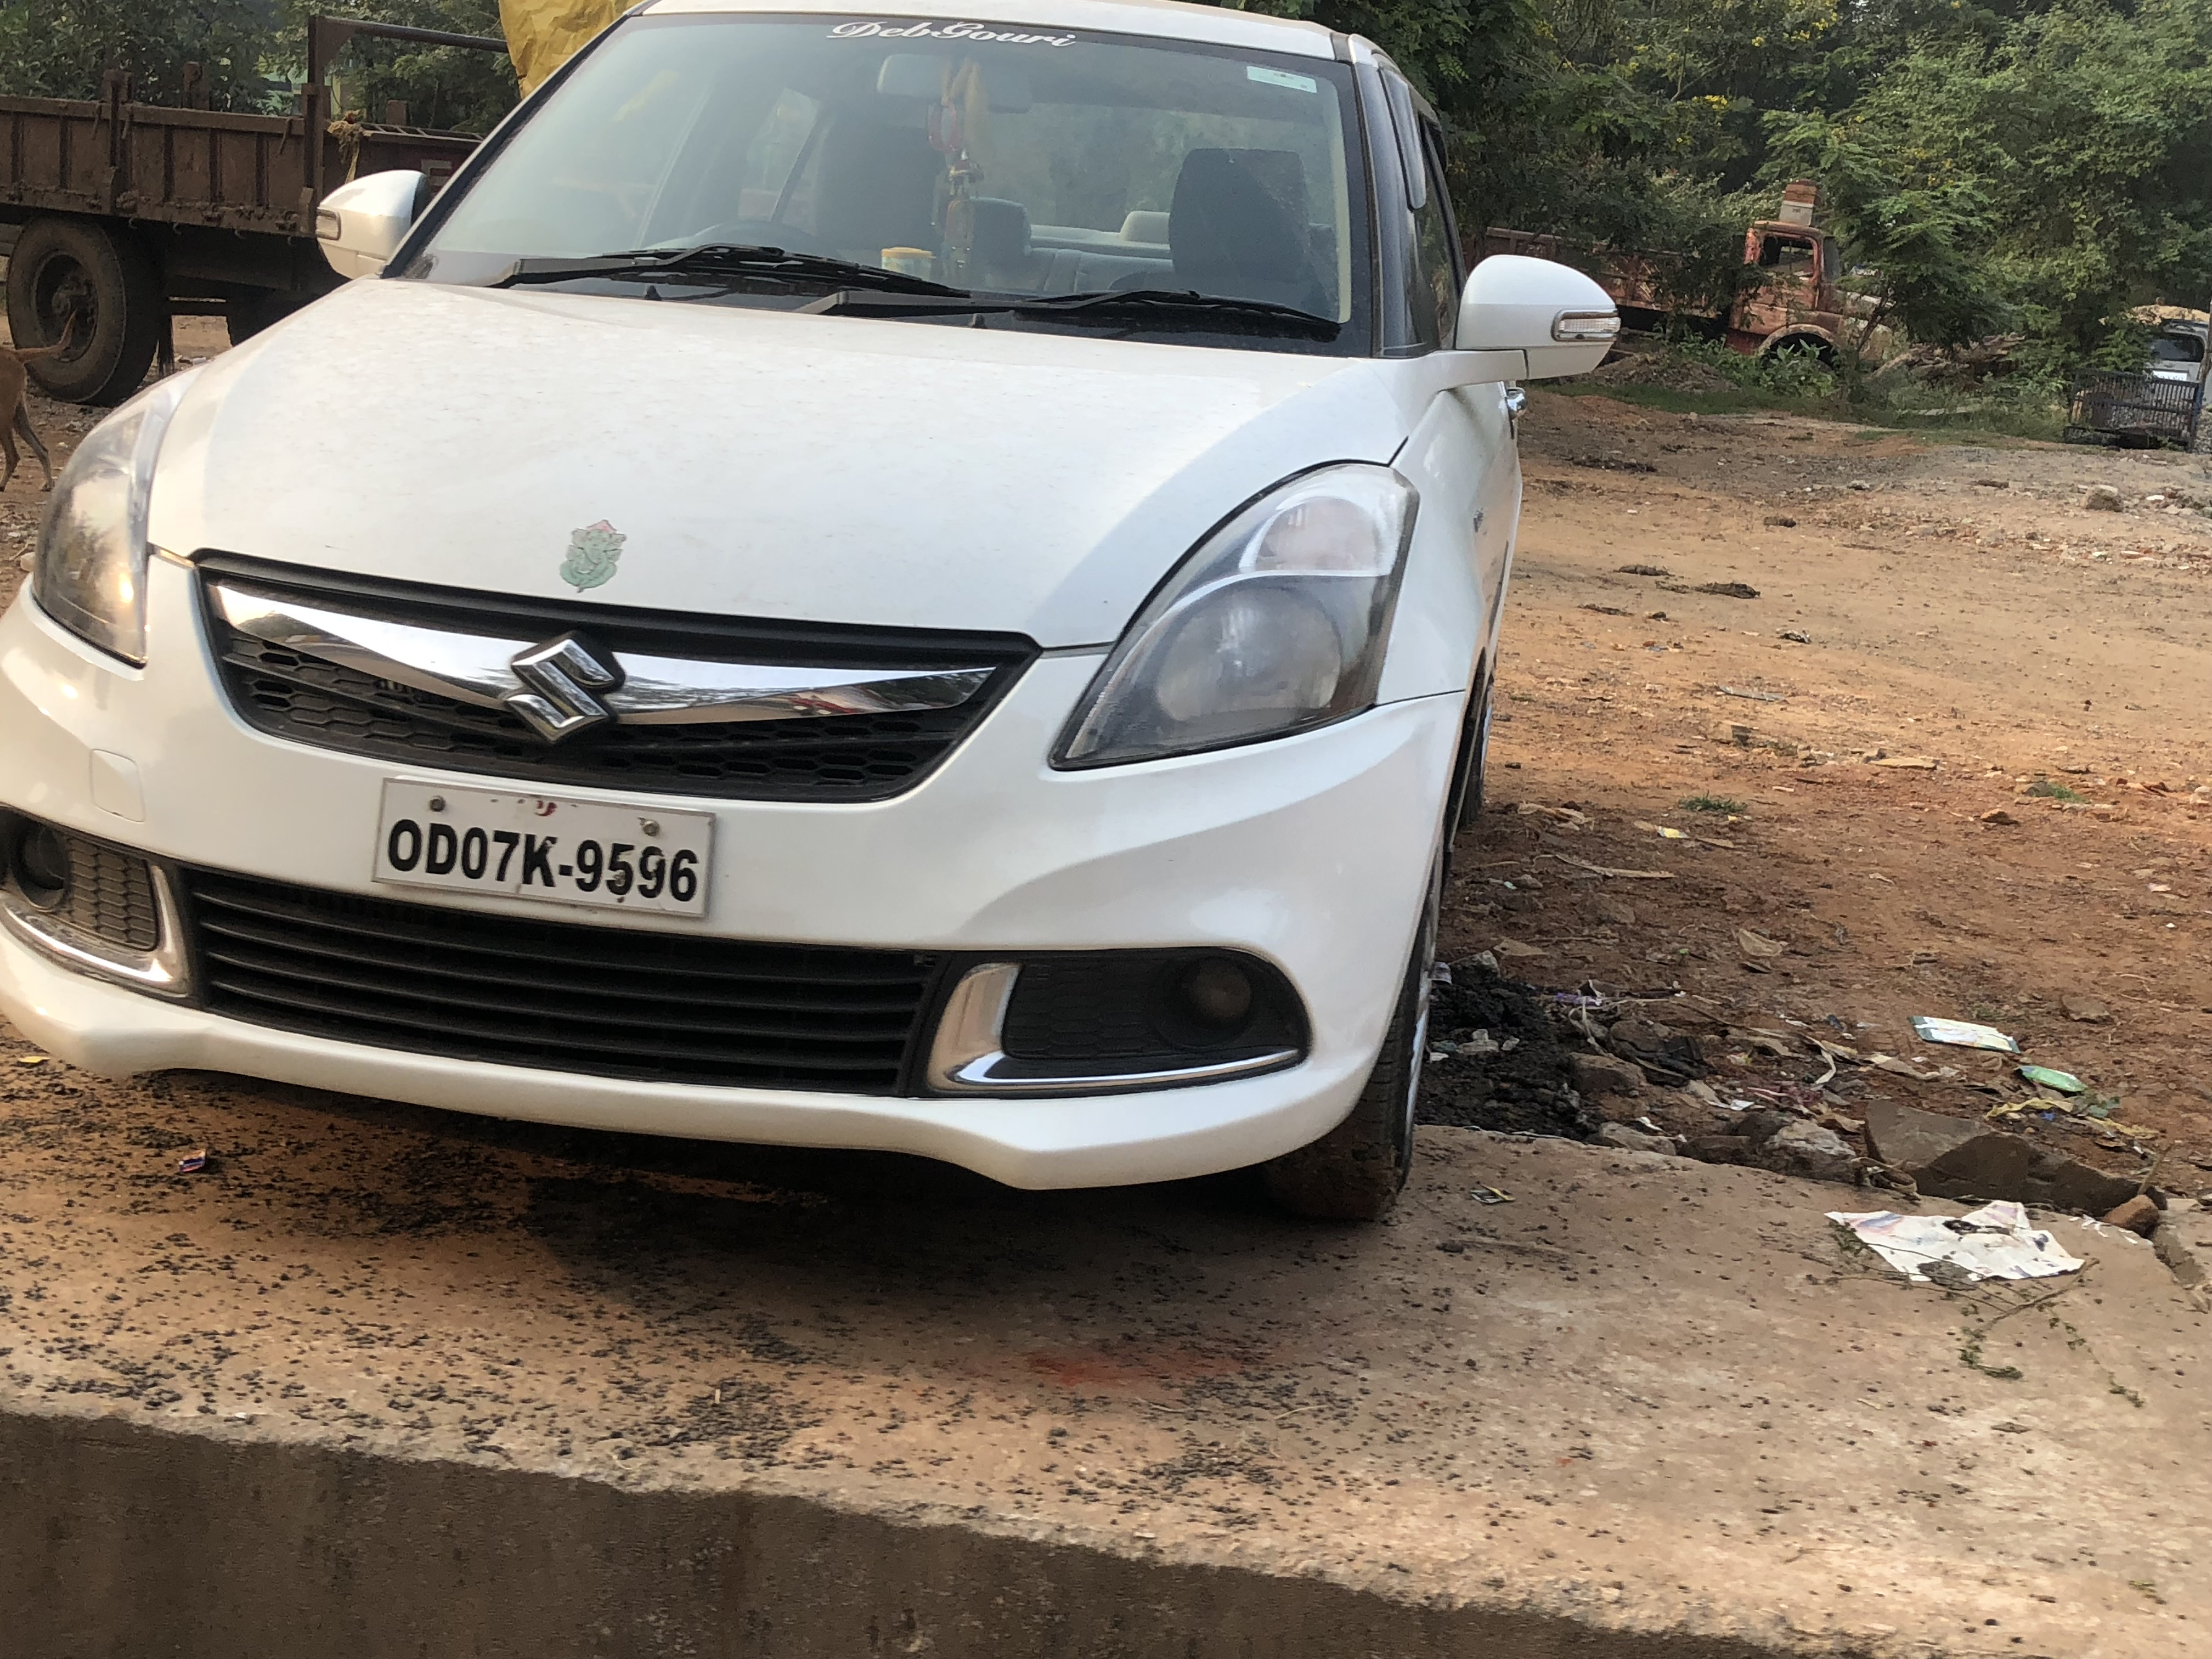licenseplate: (370, 766, 721, 937)
